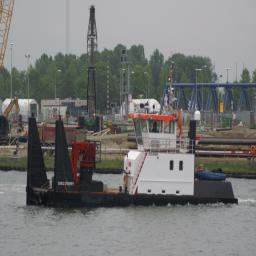tugboat: (27, 99, 240, 216)
